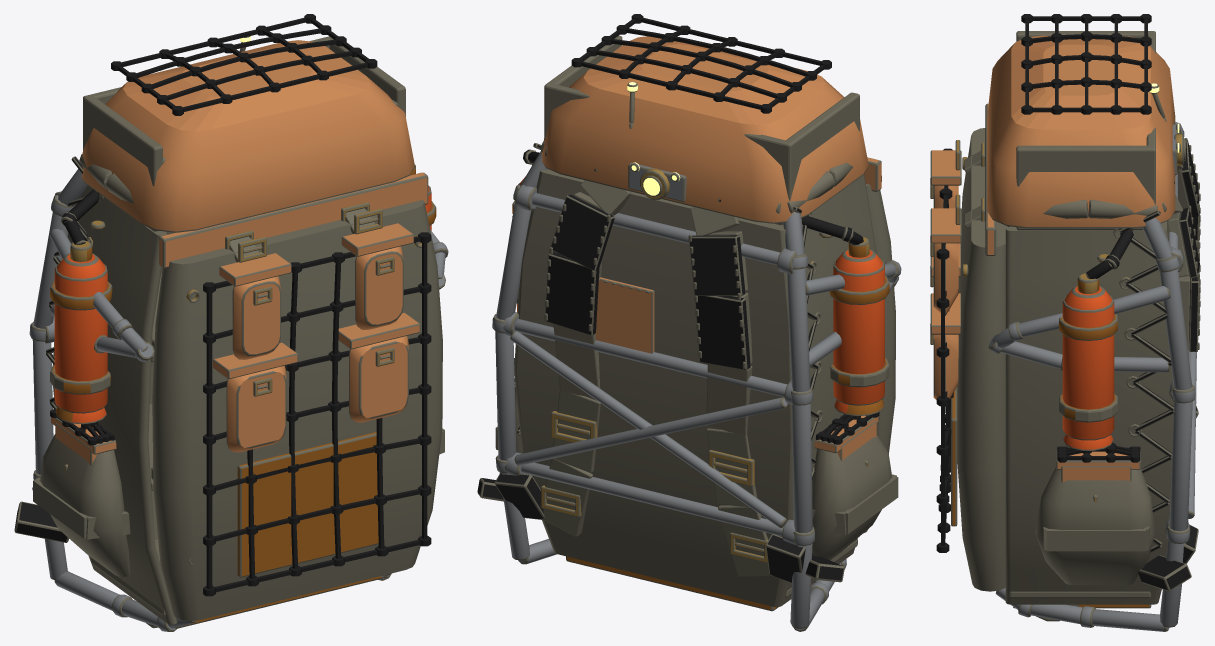
The model's file is expedition_backpack.fbx.
3 renders of one model, left to right at view 1: azimuth 30°, elevation 25°; view 2: azimuth 150°, elevation 25°; view 3: azimuth 270°, elevation 25°, orthographic. The views are drawn at different scales.
Visible parts, largest first — view 1: Mesh_Pack_Panel, Mesh_Pack_Lid, Mesh_Pack_Carcass, Mesh_Pack_PanelNet, Mesh_Pack_PanelPlate, Mesh_Pack_OxygenTank_L, Mesh_Pack_Pouch_L, Mesh_Pack_LidNet, Mesh_Pack_Exoframe, Mesh_Pack_PanelPocket_L0, Mesh_Pack_PanelPocket_R0, Mesh_Pack_PanelPocket_L1 (+10 smaller); view 2: Mesh_Pack_Carcass, Mesh_Pack_Lid, Mesh_Pack_Exoframe, Mesh_Pack_Harness_L, Mesh_Pack_Harness_R, Mesh_Pack_OxygenTank_L, Mesh_Pack_LidNet, Mesh_Pack_Pouch_L, Mesh_Pack_BrainDeck, Mesh_Pack_RepairPatch, Mesh_Pack_Panel, Mesh_Pack_HipBelt_L (+9 smaller); view 3: Mesh_Pack_Carcass, Mesh_Pack_Lid, Mesh_Pack_Panel, Mesh_Pack_Pouch_R, Mesh_Pack_Exoframe, Mesh_Pack_OxygenTank_R, Mesh_Pack_LidNet, Mesh_Pack_BrainDeck, Mesh_Pack_OutriggerLoop_R, Mesh_Pack_PanelNet, Mesh_Pack_Lacing_R, Mesh_Pack_Harness_R (+13 smaller).
Part boxes in pixels (x1=…): Mesh_Pack_Panel: x1=152, y1=200, x2=442, y2=620; Mesh_Pack_Lid: x1=81, y1=40, x2=428, y2=268; Mesh_Pack_Carcass: x1=52, y1=175, x2=409, y2=624; Mesh_Pack_PanelNet: x1=203, y1=232, x2=431, y2=596; Mesh_Pack_PanelPlate: x1=237, y1=431, x2=382, y2=577; Mesh_Pack_OxygenTank_L: x1=50, y1=241, x2=112, y2=424; Mesh_Pack_Pouch_L: x1=33, y1=434, x2=130, y2=576; Mesh_Pack_LidNet: x1=111, y1=14, x2=377, y2=115; Mesh_Pack_Exoframe: x1=29, y1=169, x2=391, y2=631; Mesh_Pack_PanelPocket_L0: x1=213, y1=342, x2=297, y2=452; Mesh_Pack_PanelPocket_R0: x1=338, y1=312, x2=420, y2=422; Mesh_Pack_PanelPocket_L1: x1=219, y1=253, x2=291, y2=359; Mesh_Pack_Carcass: x1=514, y1=169, x2=879, y2=607; Mesh_Pack_Lid: x1=541, y1=36, x2=881, y2=223; Mesh_Pack_Exoframe: x1=492, y1=151, x2=846, y2=631; Mesh_Pack_Harness_L: x1=688, y1=206, x2=772, y2=576; Mesh_Pack_Harness_R: x1=541, y1=180, x2=631, y2=536; Mesh_Pack_OxygenTank_L: x1=829, y1=236, x2=889, y2=416; Mesh_Pack_LidNet: x1=571, y1=14, x2=831, y2=113; Mesh_Pack_Pouch_L: x1=812, y1=435, x2=898, y2=560; Mesh_Pack_BrainDeck: x1=544, y1=35, x2=859, y2=224; Mesh_Pack_RepairPatch: x1=595, y1=277, x2=654, y2=353; Mesh_Pack_Panel: x1=775, y1=184, x2=895, y2=533; Mesh_Pack_HipBelt_L: x1=765, y1=534, x2=844, y2=582; Mesh_Pack_Carcass: x1=1005, y1=221, x2=1174, y2=604; Mesh_Pack_Lid: x1=985, y1=35, x2=1175, y2=255; Mesh_Pack_Panel: x1=957, y1=128, x2=1007, y2=591; Mesh_Pack_Pouch_R: x1=1035, y1=467, x2=1155, y2=585; Mesh_Pack_Exoframe: x1=995, y1=122, x2=1196, y2=631; Mesh_Pack_OxygenTank_R: x1=1059, y1=273, x2=1117, y2=450; Mesh_Pack_LidNet: x1=1021, y1=14, x2=1151, y2=114; Mesh_Pack_BrainDeck: x1=1016, y1=31, x2=1155, y2=230; Mesh_Pack_OutriggerLoop_R: x1=988, y1=286, x2=1170, y2=372; Mesh_Pack_PanelNet: x1=936, y1=148, x2=958, y2=552; Mesh_Pack_Lacing_R: x1=1113, y1=210, x2=1174, y2=552; Mesh_Pack_Harness_R: x1=1168, y1=194, x2=1200, y2=354.
Size of the model in its own units: 117 by 159 by 75.16.
